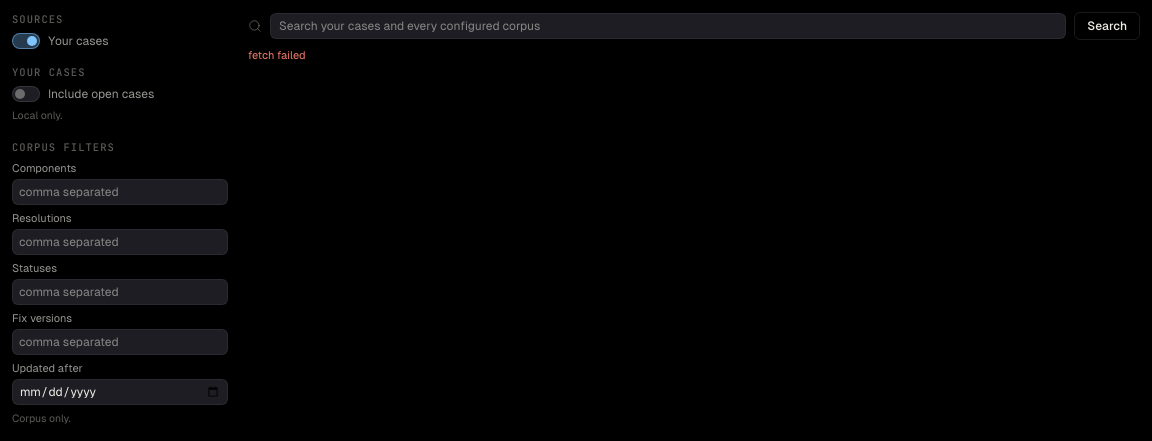
Test: RelatedHistoryExplorer › clears loading and shows a retry-ready failure line when search rejects
The image size is (1152, 441).
Expected: the text "fetch failed" is shown, [248, 49, 306, 61]
Expected: the text "No related history for this query." is not shown
Type "battery soc" into the field named "Search related history".
click(668, 26); type("battery soc")  # box [270, 13, 1066, 39]
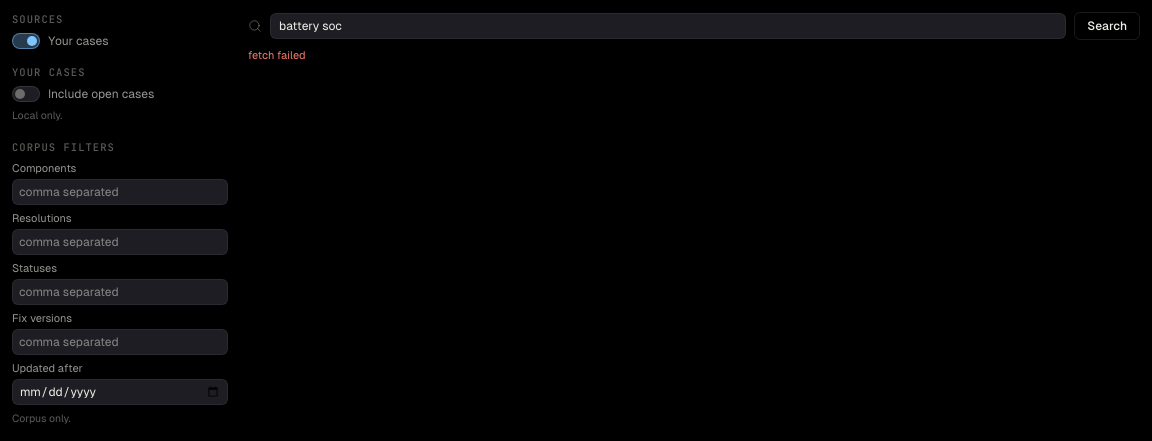
Submit the form, box [248, 12, 1140, 40]
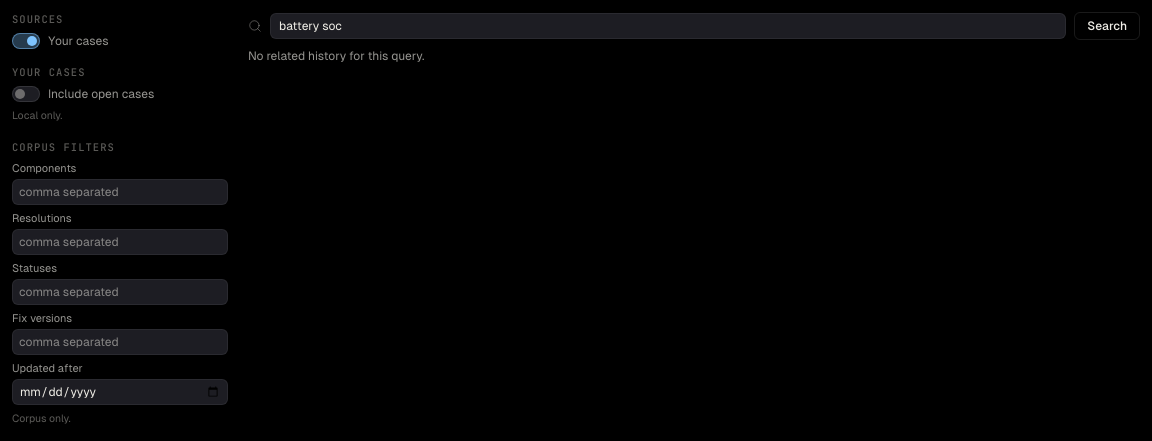
Expected: the text "No related history for this query." is shown, [248, 49, 424, 63]
Expected: the text "fetch failed" is gone
